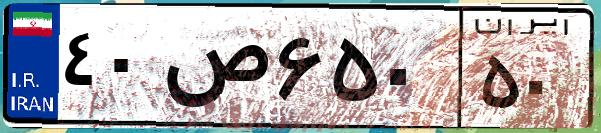0: (385, 28, 445, 110), (525, 38, 570, 115), (110, 28, 158, 98)
4: (57, 26, 110, 100)
5: (330, 28, 385, 110), (475, 38, 525, 113)
6: (270, 28, 330, 110)
ص: (158, 20, 270, 120)
